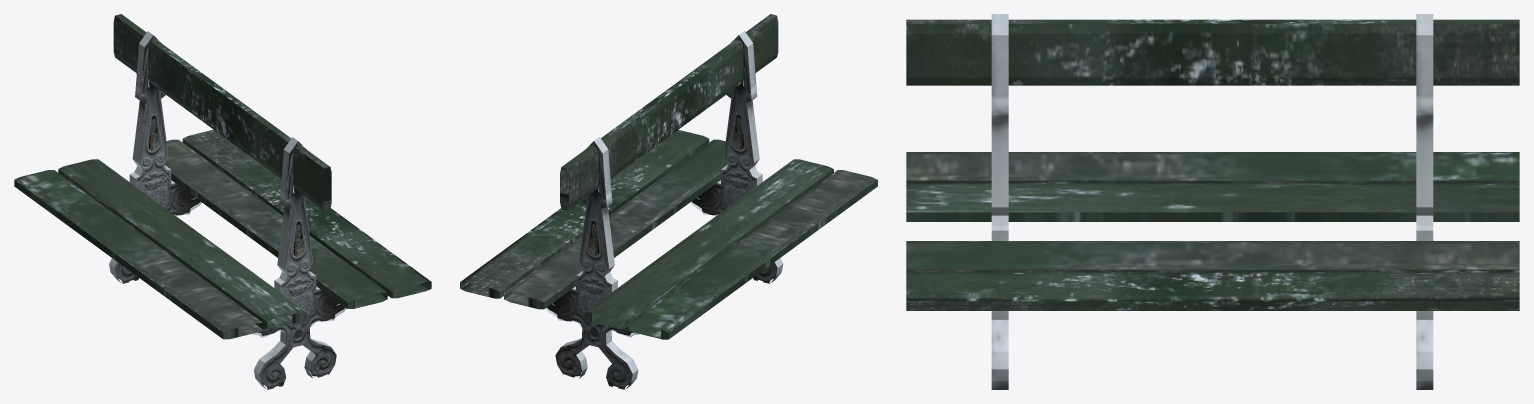
The model's file is BancDouble.fbx.
3 renders of one model, left to right at view 1: azimuth 30°, elevation 25°; view 2: azimuth 150°, elevation 25°; view 3: azimuth 270°, elevation 25°, orthographic. The views are drawn at different scales.
Visible parts, largest first — view 1: Planche2, Planche4, Planche3, Planche5, BancDouble, Planche1, Pied; view 2: Planche2, Planche4, Planche3, Planche5, Pied, Planche1, BancDouble; view 3: Planche4, Planche1, Planche3, Planche5, Planche2, BancDouble, Pied.
Part boxes in pixels (x1=…): Planche2: x1=14, y1=170, x2=263, y2=339; Planche4: x1=113, y1=14, x2=331, y2=210; Planche3: x1=58, y1=159, x2=307, y2=328; Planche5: x1=164, y1=139, x2=387, y2=308; BancDouble: x1=252, y1=137, x2=346, y2=389; Planche1: x1=182, y1=129, x2=431, y2=298; Pied: x1=109, y1=31, x2=201, y2=283; Planche2: x1=628, y1=170, x2=877, y2=339; Planche4: x1=560, y1=14, x2=778, y2=210; Planche3: x1=584, y1=159, x2=833, y2=328; Planche5: x1=504, y1=139, x2=728, y2=309; Pied: x1=545, y1=137, x2=639, y2=389; Planche1: x1=460, y1=130, x2=709, y2=298; BancDouble: x1=690, y1=31, x2=783, y2=283; Planche4: x1=906, y1=19, x2=1519, y2=85; Planche1: x1=906, y1=272, x2=1519, y2=310; Planche3: x1=906, y1=183, x2=1519, y2=221; Planche5: x1=906, y1=241, x2=1519, y2=272; Planche2: x1=906, y1=152, x2=1519, y2=183; BancDouble: x1=991, y1=14, x2=1008, y2=389; Pied: x1=1416, y1=14, x2=1433, y2=389.
Bounding box in the file's own units: 1.09 × 1.89 × 1.2.
1 material, 1 textured.
